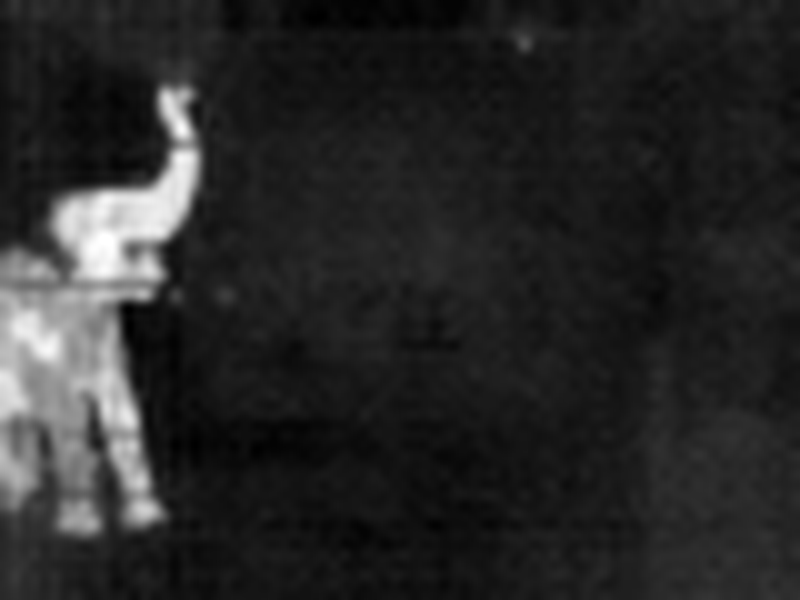elephant: (9, 94, 168, 523)
